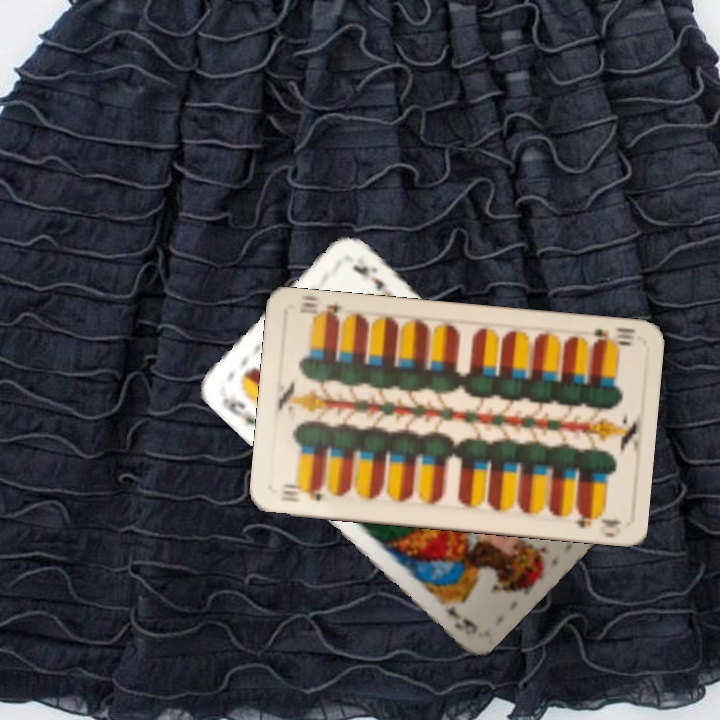E10: (588, 323, 638, 350), (278, 480, 325, 503)
EK: (218, 389, 259, 428)
